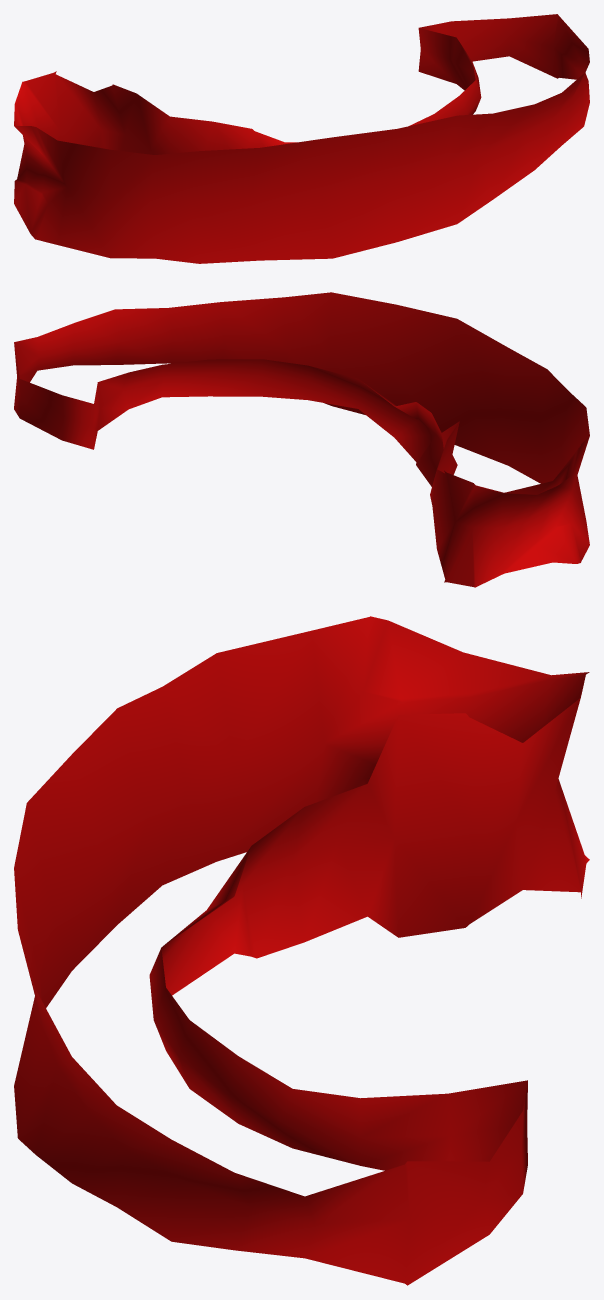
The model's file is region_14.obj.
The picture shows the model from 3 angles, top to bottom: view 1: azimuth 30°, elevation 25°; view 2: azimuth 150°, elevation 25°; view 3: azimuth 270°, elevation 25°; orthographic projection. The views are drawn at different scales.
Visible parts, largest first — view 1: ID133; view 2: ID133; view 3: ID133.
Boxes of the visible parts, x1,y1,x2,y2 form: ID133: (14, 14, 589, 263); ID133: (14, 292, 589, 587); ID133: (14, 616, 589, 1285).
Bounding box in the file's own units: 90.56 × 19.57 × 43.82.
